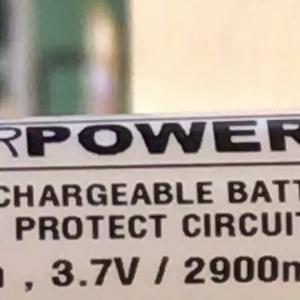3.7V: (41, 247, 149, 297)
